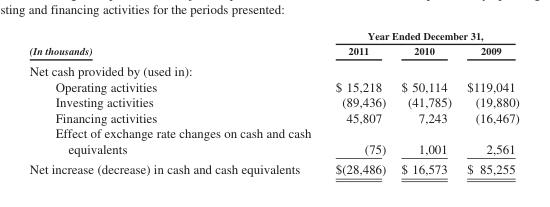table: (28, 29, 518, 176)
table column: (28, 29, 322, 176), (322, 29, 392, 176), (392, 29, 458, 176), (458, 29, 518, 176)
table column header: (28, 29, 518, 60)
table projected row header: (28, 60, 518, 78)
table row: (28, 124, 518, 158), (28, 42, 518, 60), (28, 60, 518, 78), (28, 158, 518, 176), (28, 93, 518, 109), (28, 78, 518, 93), (28, 109, 518, 124), (28, 29, 518, 42)
table spanning cell: (28, 29, 322, 60), (322, 29, 518, 42)
